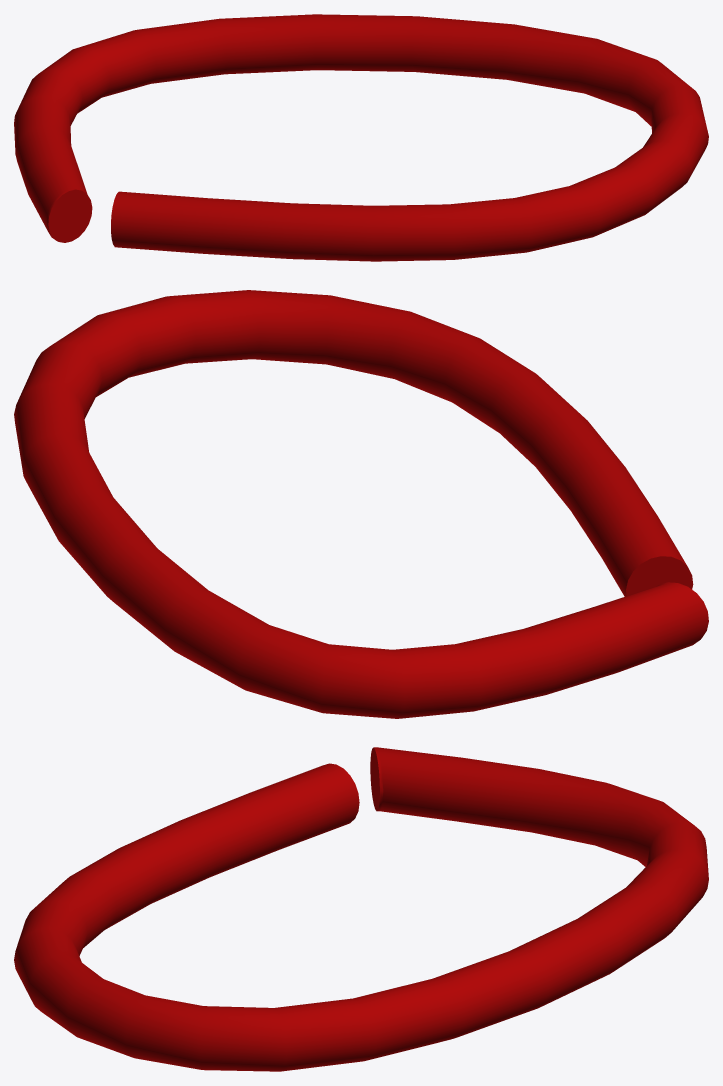
The model's file is Item_Chain_Tray_Sec.fbx.
3 renders of one model, top to bottom at view 1: azimuth 30°, elevation 25°; view 2: azimuth 150°, elevation 25°; view 3: azimuth 270°, elevation 25°, orthographic. The views are drawn at different scales.
Visible parts, largest first — view 1: pCylinder1; view 2: pCylinder1; view 3: pCylinder1.
Boxes of the visible parts, box(x1,y1,x2,y2) form: pCylinder1: box(14, 14, 708, 261); pCylinder1: box(14, 290, 708, 718); pCylinder1: box(14, 747, 708, 1071).
Bounding box in the file's own units: 37.85 × 5.13 × 34.46.
